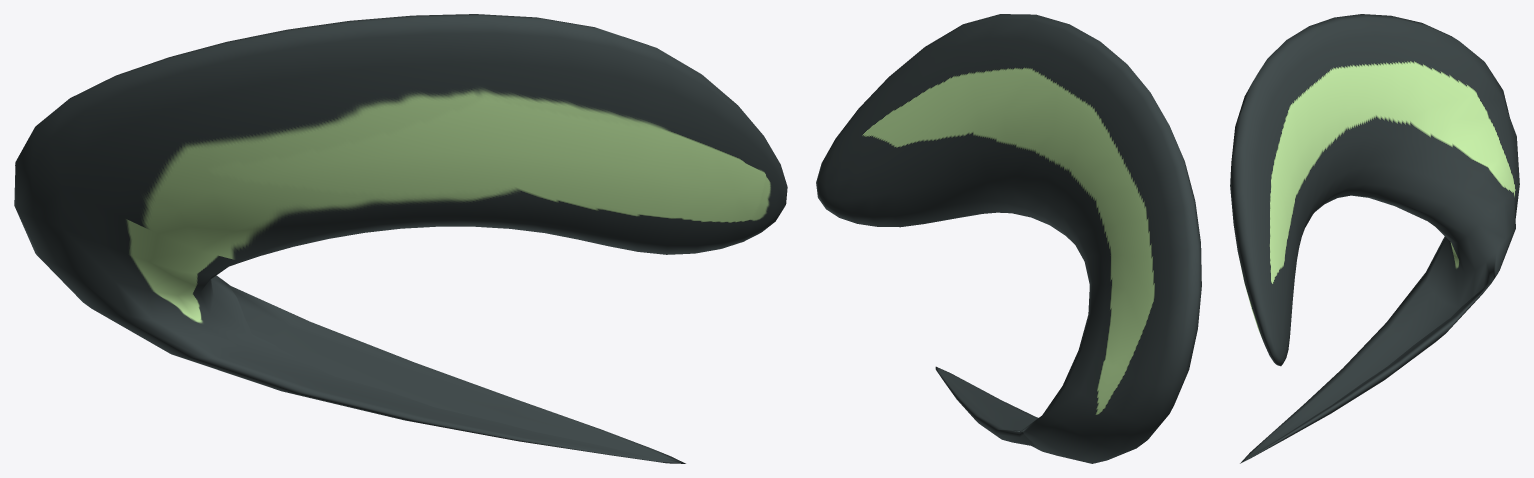
The model's file is ponetail_test1.obj.
3 renders of one model, left to right at view 1: azimuth 30°, elevation 25°; view 2: azimuth 150°, elevation 25°; view 3: azimuth 270°, elevation 25°, orthographic. The views are drawn at different scales.
Visible parts, largest first — view 1: Cube; view 2: Cube; view 3: Cube.
Part boxes in pixels (x1,y1,x2,y2): Cube: (14, 14, 787, 463); Cube: (816, 14, 1201, 463); Cube: (1230, 14, 1519, 463).
Size of the model in its own units: 30.76 by 22.85 by 17.53.
